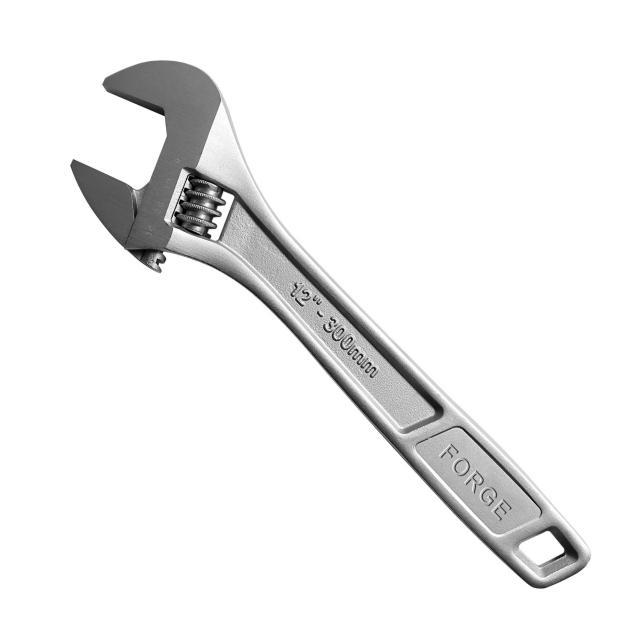wrench: (63, 57, 597, 596)
